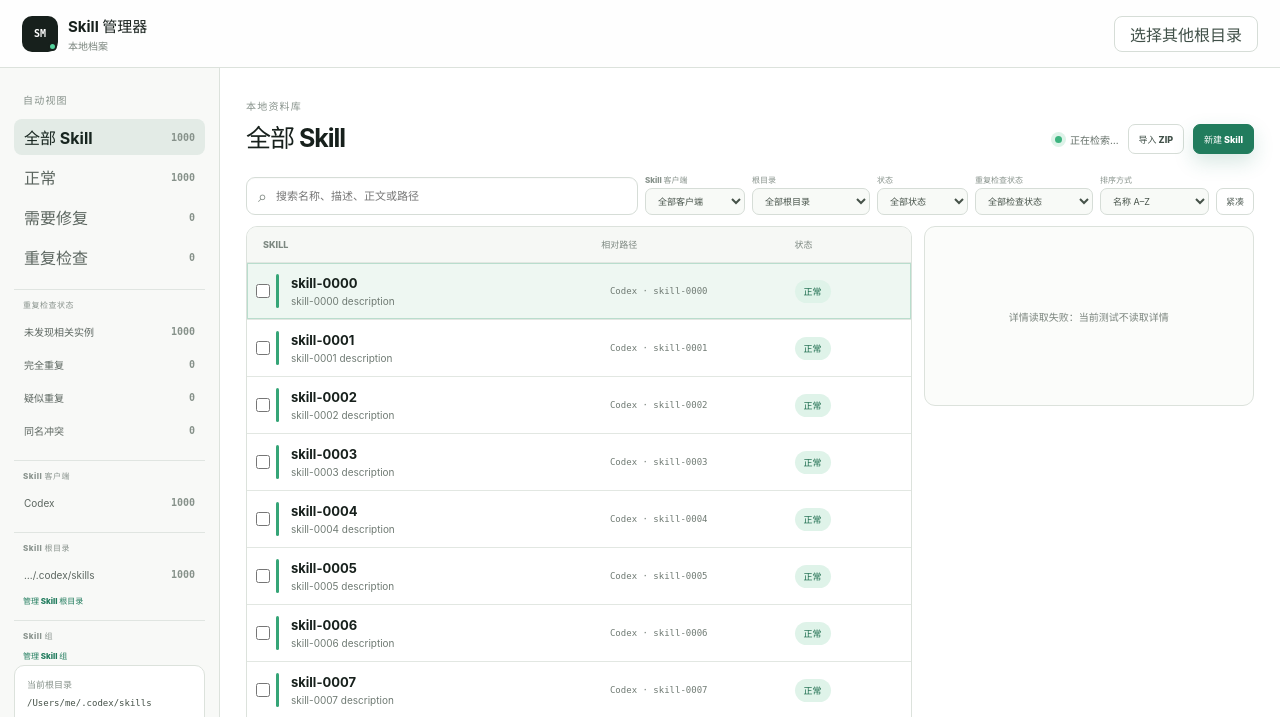
it: Skill 管理器 › 千实例列表可在基线内完成检索、选择与键盘聚焦
Click the checkbox named "选择 skill-0000". click: {"x": 263, "y": 291}
box: [256,284,270,298]
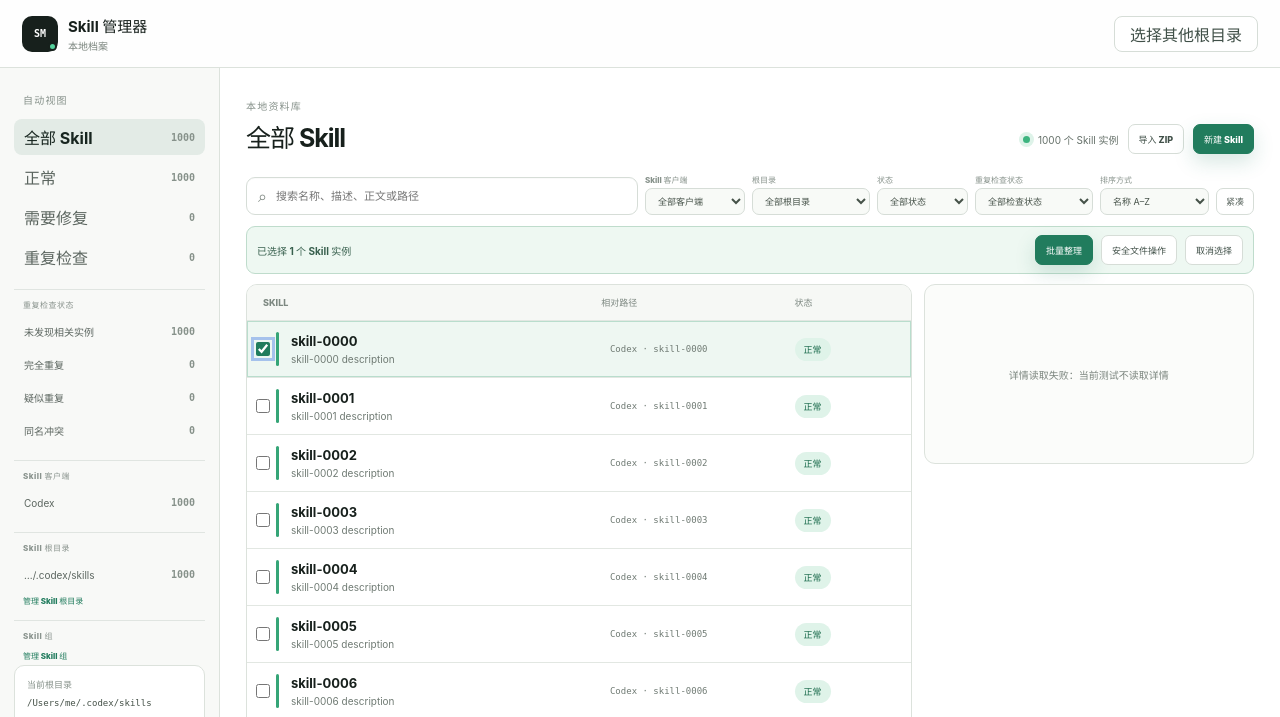
Expected: the text "已选择 1 个 Skill 实例" is shown, [257,244,351,256]
Select "Codex" in the dropdown named "Skill 客户端筛选". click: {"x": 695, "y": 202}
box: [645,188,745,215]
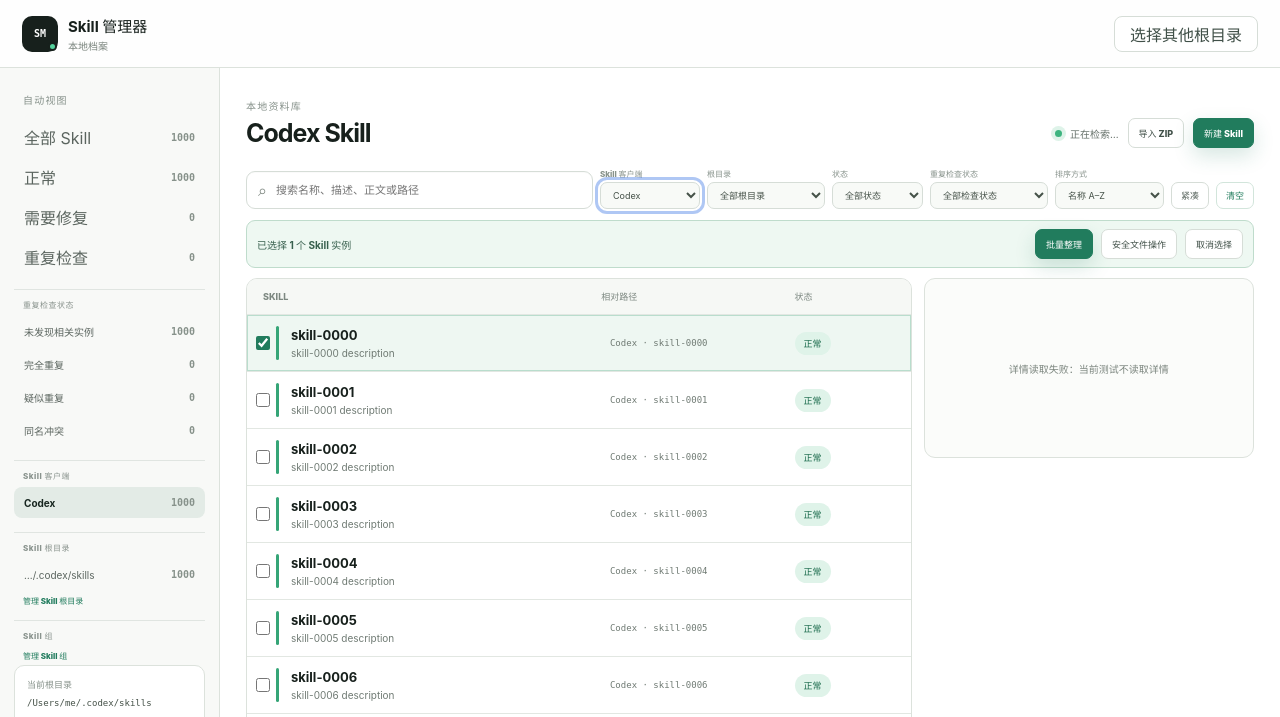
Select "正常" in the dropdown named "状态筛选". click: {"x": 878, "y": 196}
box: [832,182,923,209]
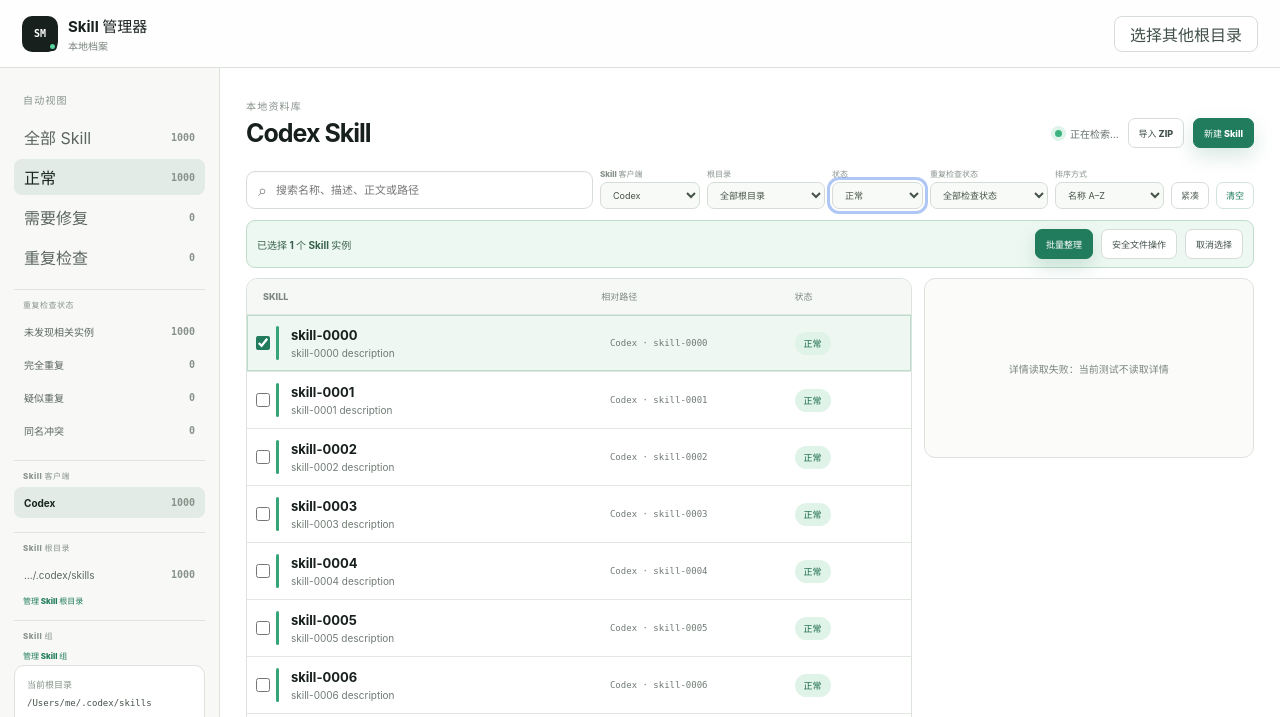
Select "未发现相关实例" in the dropdown named "重复检查状态筛选". click: {"x": 989, "y": 196}
box: [930,182,1048,209]
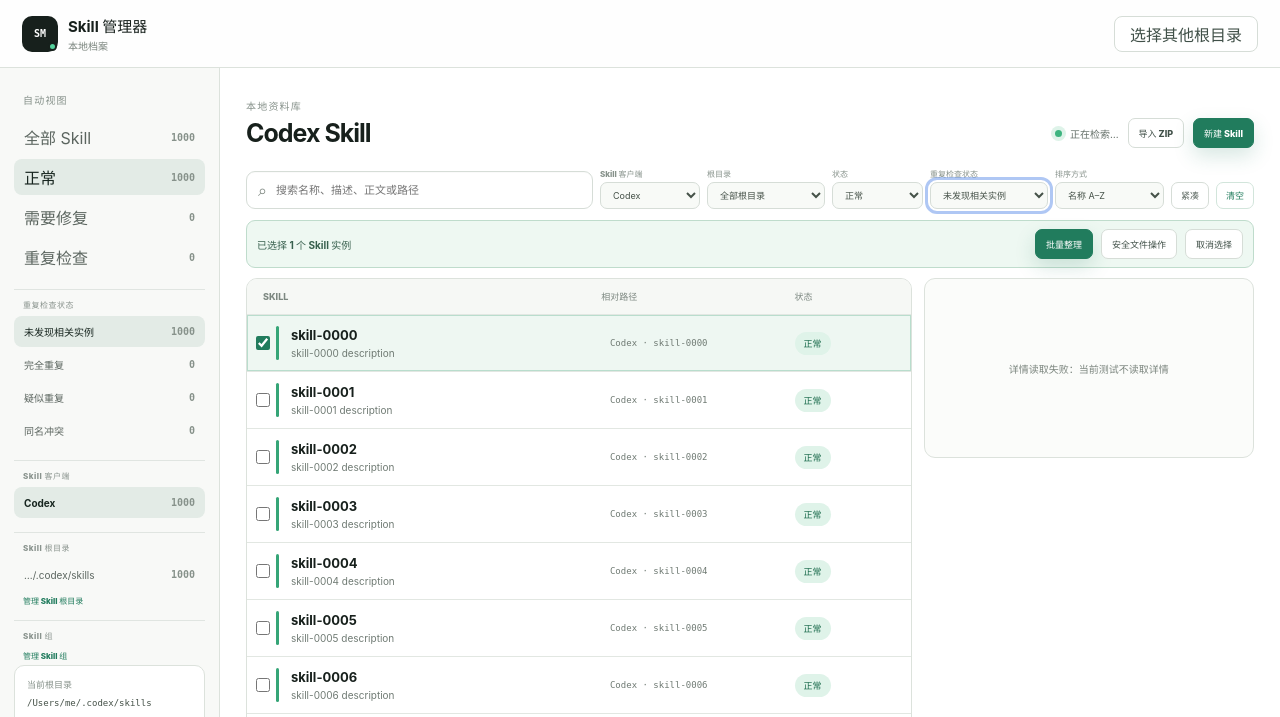
Select "名称 Z–A" in the dropdown labelled "排序方式". click: {"x": 1110, "y": 196}
box: [1055,182,1164,209]
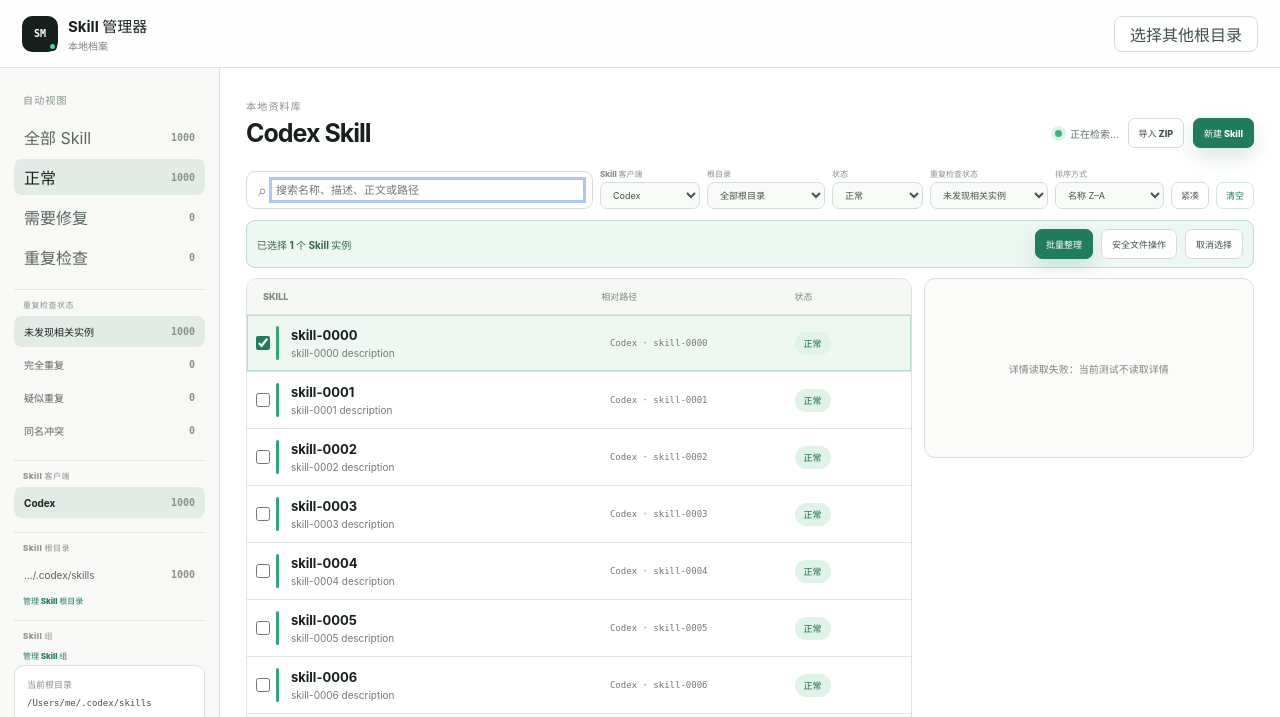
Type "0999" into the search field named "搜索 Skill". click: {"x": 428, "y": 190}
box: [274,182,581,198]
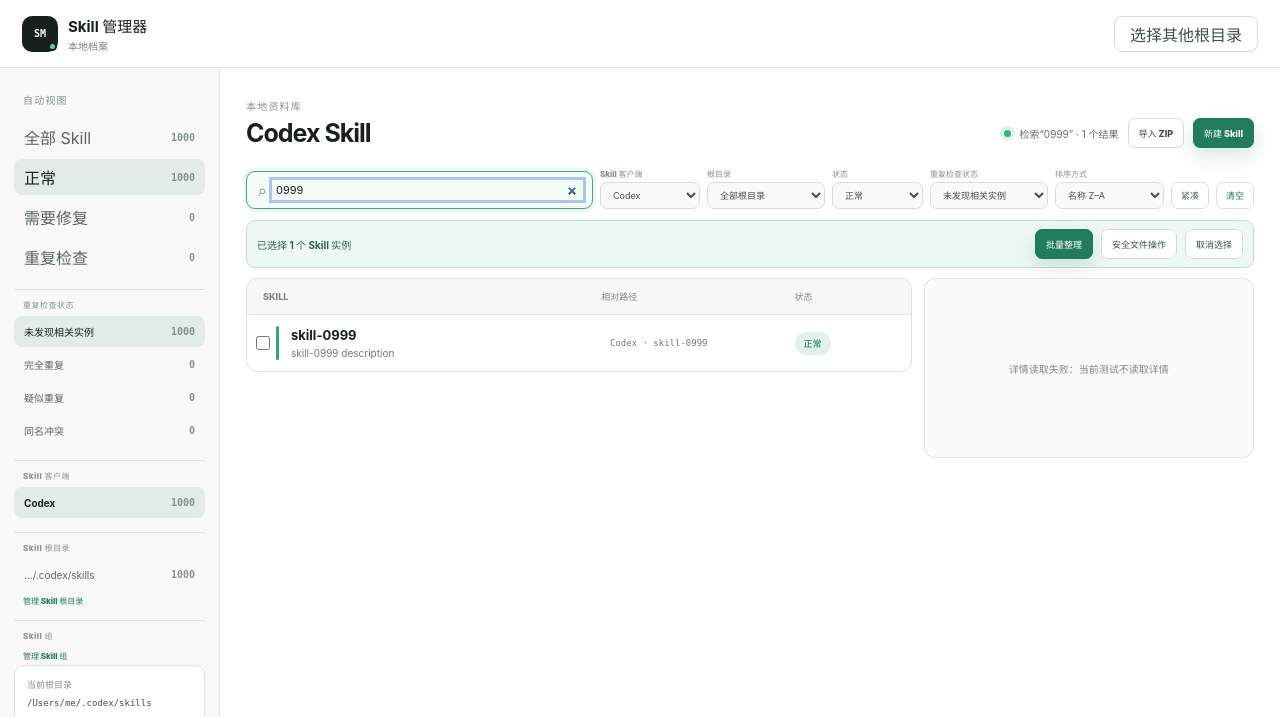
Expected: the number of list items is 1, [247,314,910,371]
